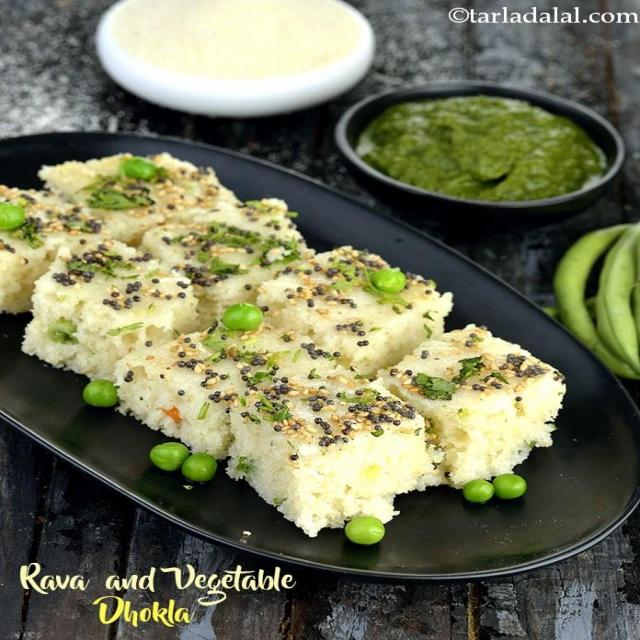dhokla: (23, 158, 524, 520)
